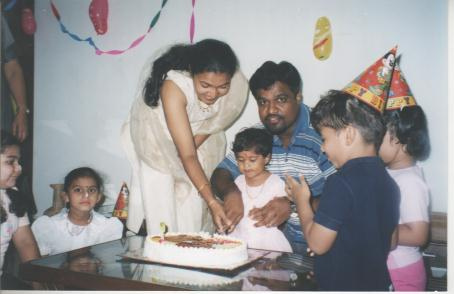without_mask: (311, 107, 377, 172), (251, 75, 304, 132), (191, 57, 234, 109), (59, 173, 105, 218), (231, 140, 273, 179), (1, 137, 27, 194)
